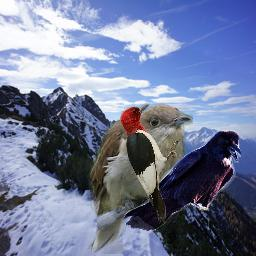Crow: (124, 130, 241, 231)
Cuckoo: (87, 103, 193, 254)
Woodpecker: (119, 102, 181, 224)
